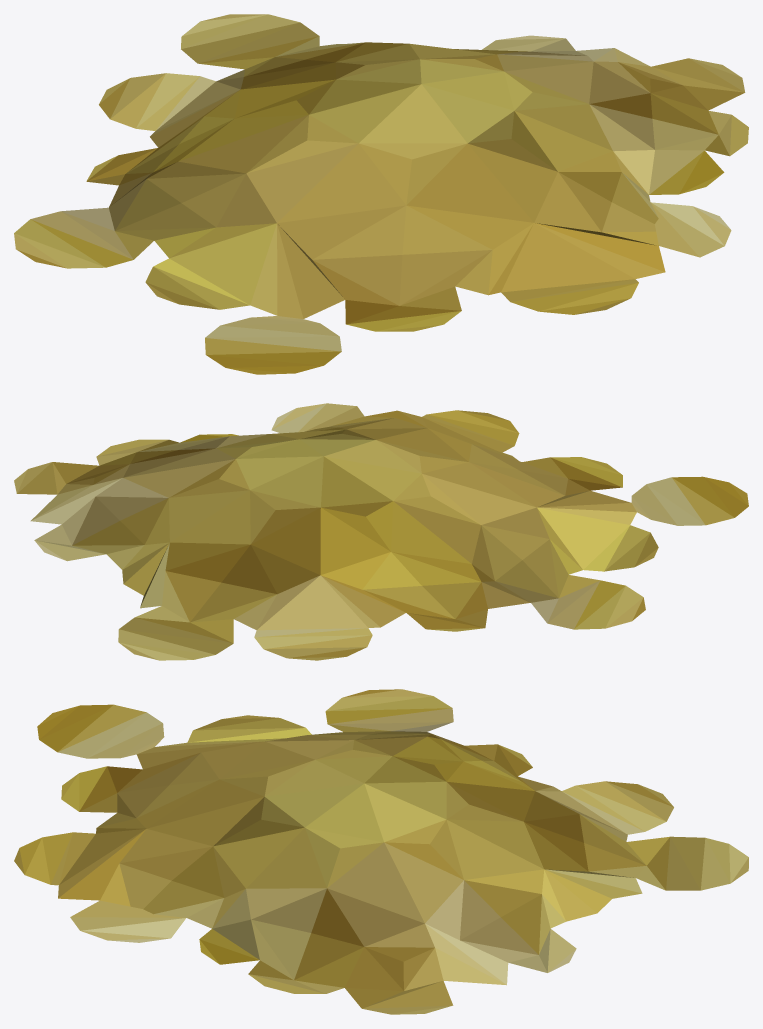
File: prop_treasure_coin_pile_large.fbx
The picture shows the model from 3 angles, top to bottom: view 1: azimuth 30°, elevation 25°; view 2: azimuth 150°, elevation 25°; view 3: azimuth 270°, elevation 25°; orthographic projection. The views are drawn at different scales.
Parts seen in each view (by area): view 1: prop_treasure_coin_pile_large; view 2: prop_treasure_coin_pile_large; view 3: prop_treasure_coin_pile_large.
Part boxes in pixels (box(x1,y1,x2,y2)): prop_treasure_coin_pile_large: box(14, 14, 748, 374); prop_treasure_coin_pile_large: box(14, 403, 748, 660); prop_treasure_coin_pile_large: box(14, 689, 748, 1014).
Bounding box in the file's own units: 1.75 × 0.1999 × 1.67.
